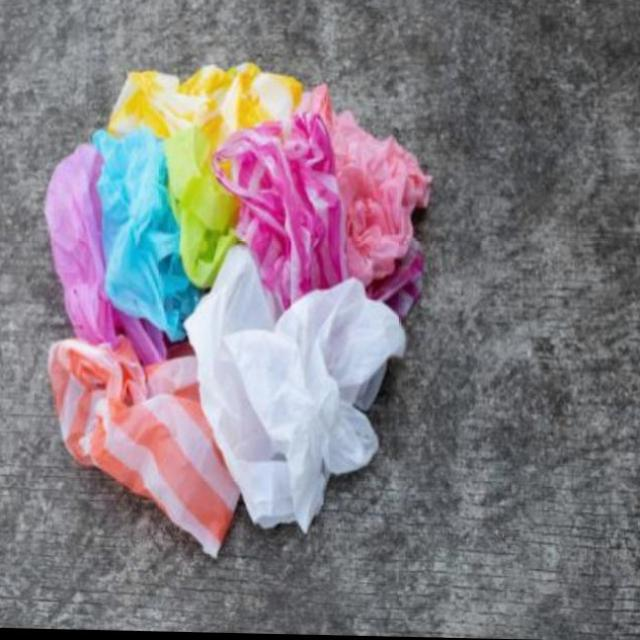plastik: (185, 246, 406, 531), (108, 64, 303, 287), (49, 338, 240, 555), (214, 112, 349, 308), (45, 145, 166, 363), (93, 129, 202, 340), (332, 112, 432, 284)
